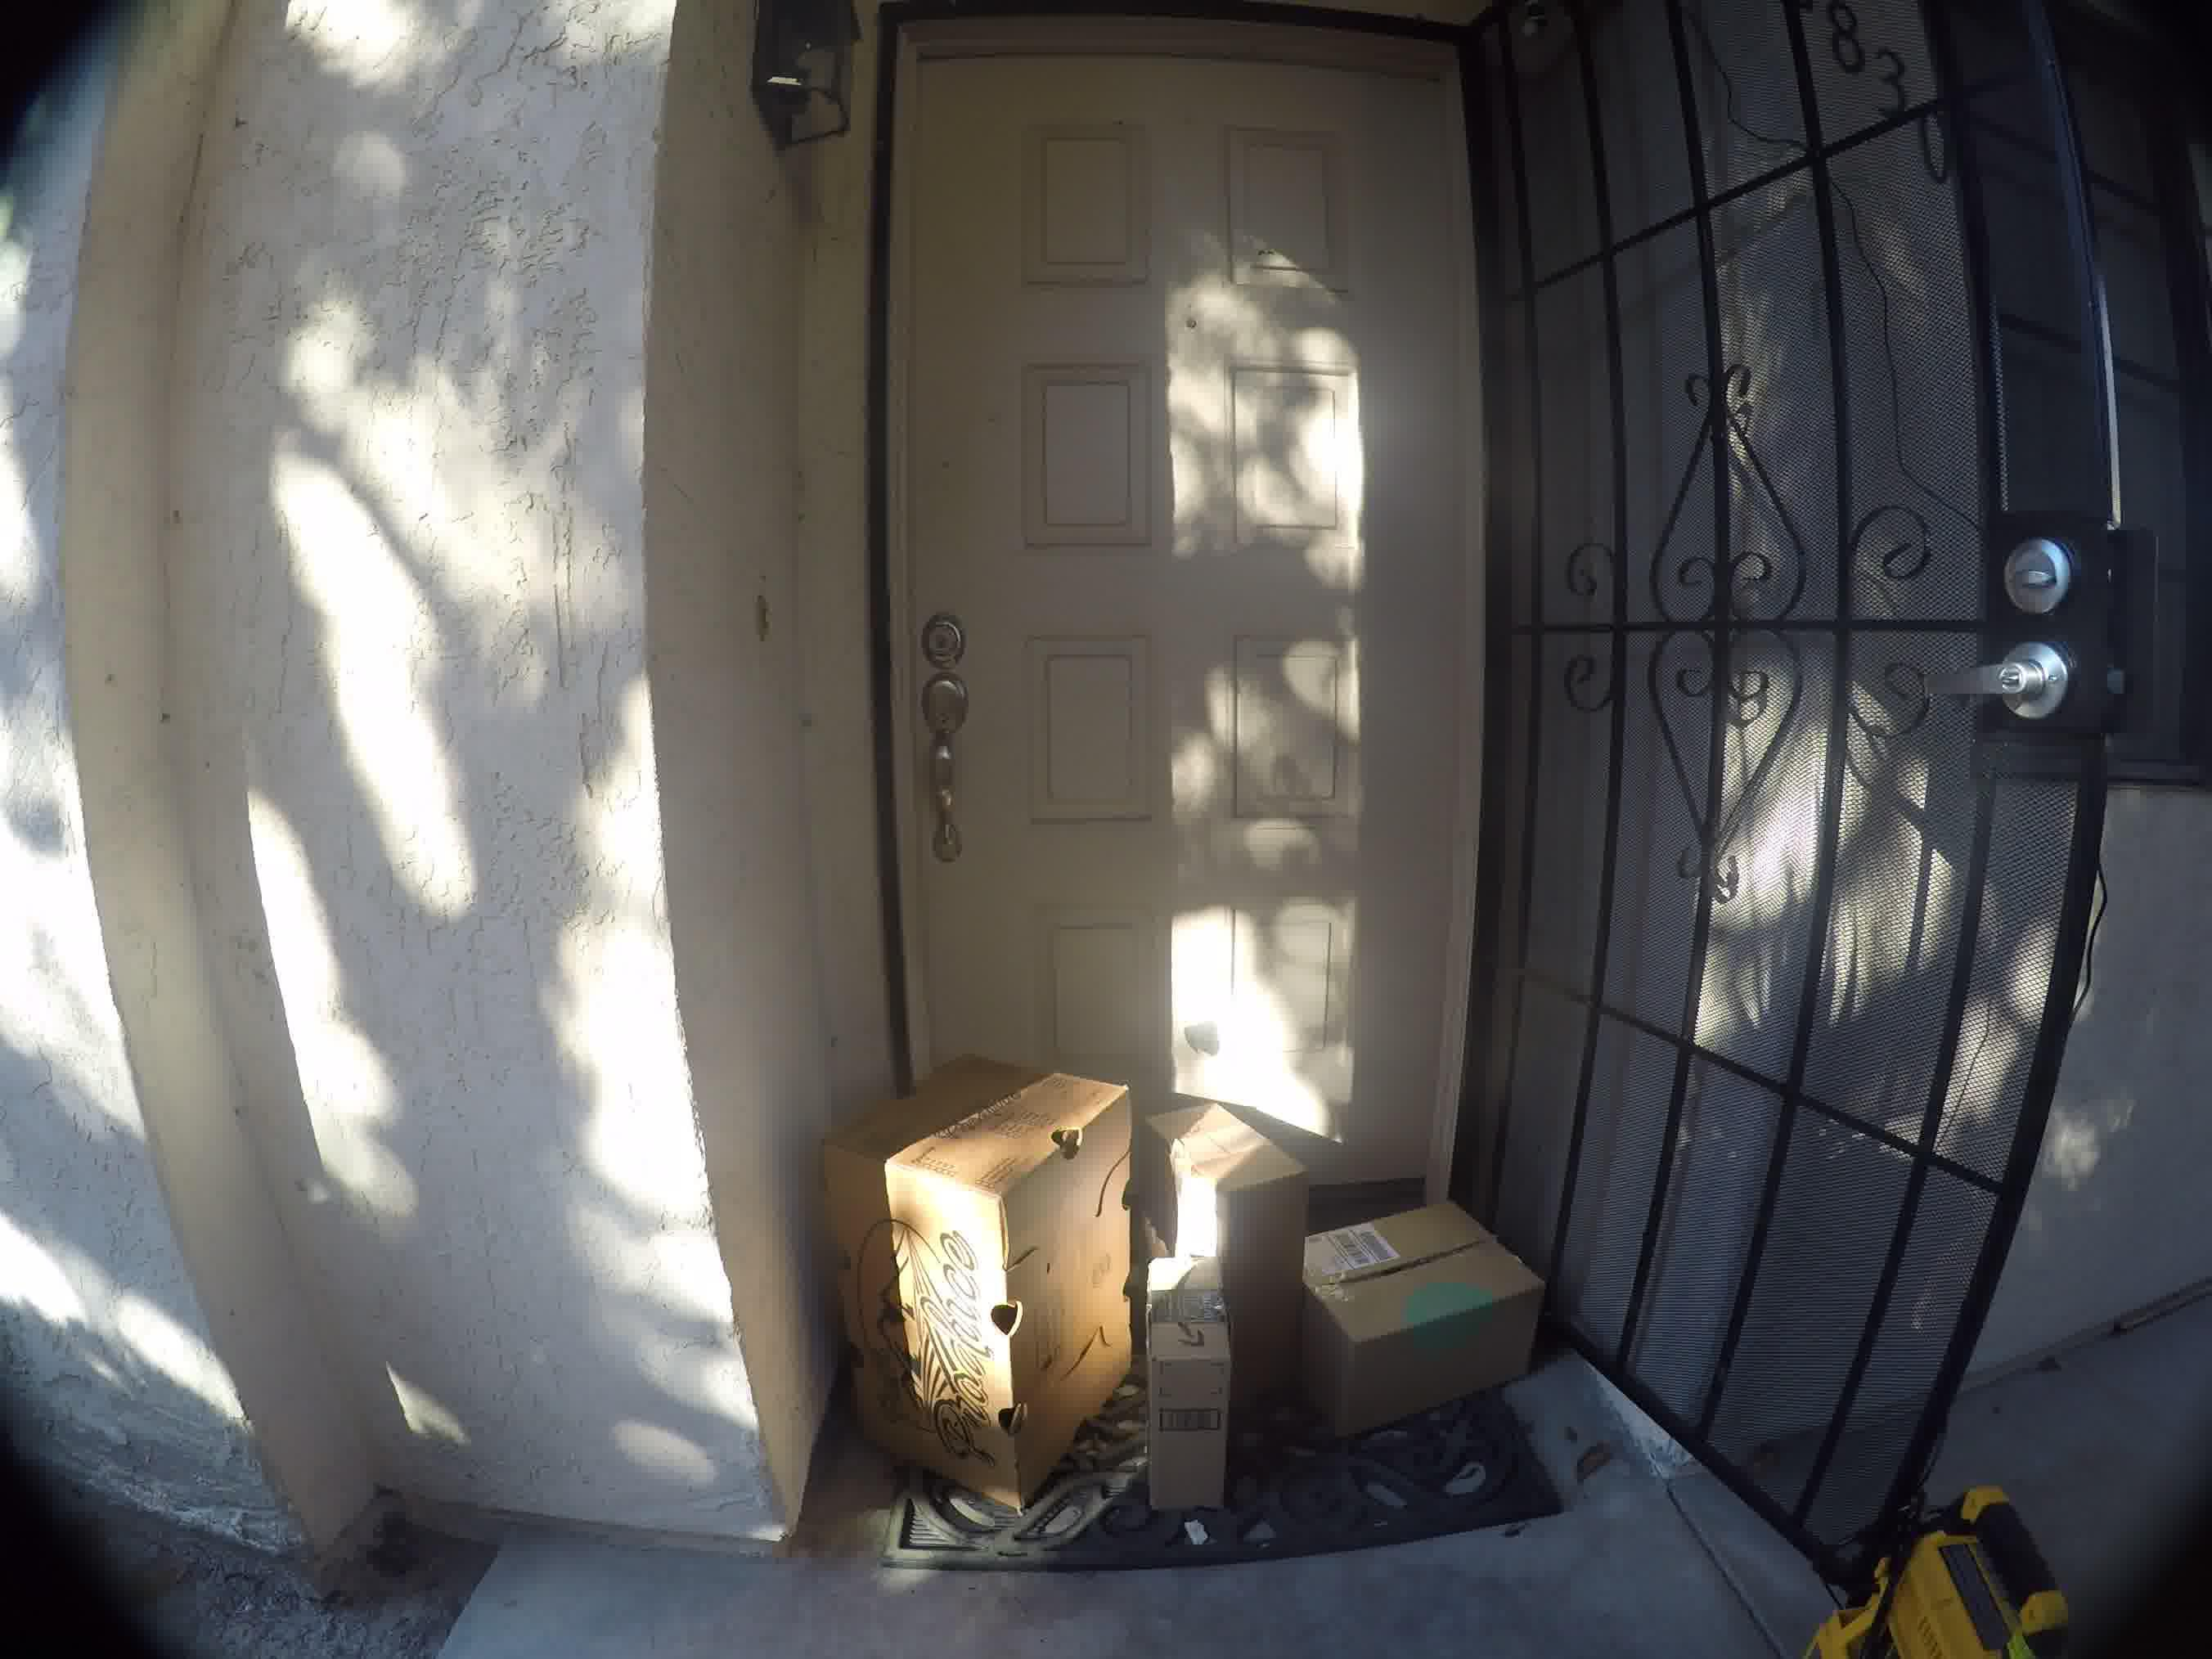box: (810, 1030, 1139, 1481), (1317, 1223, 1548, 1438), (1174, 1061, 1428, 1227), (1158, 1270, 1252, 1520)
